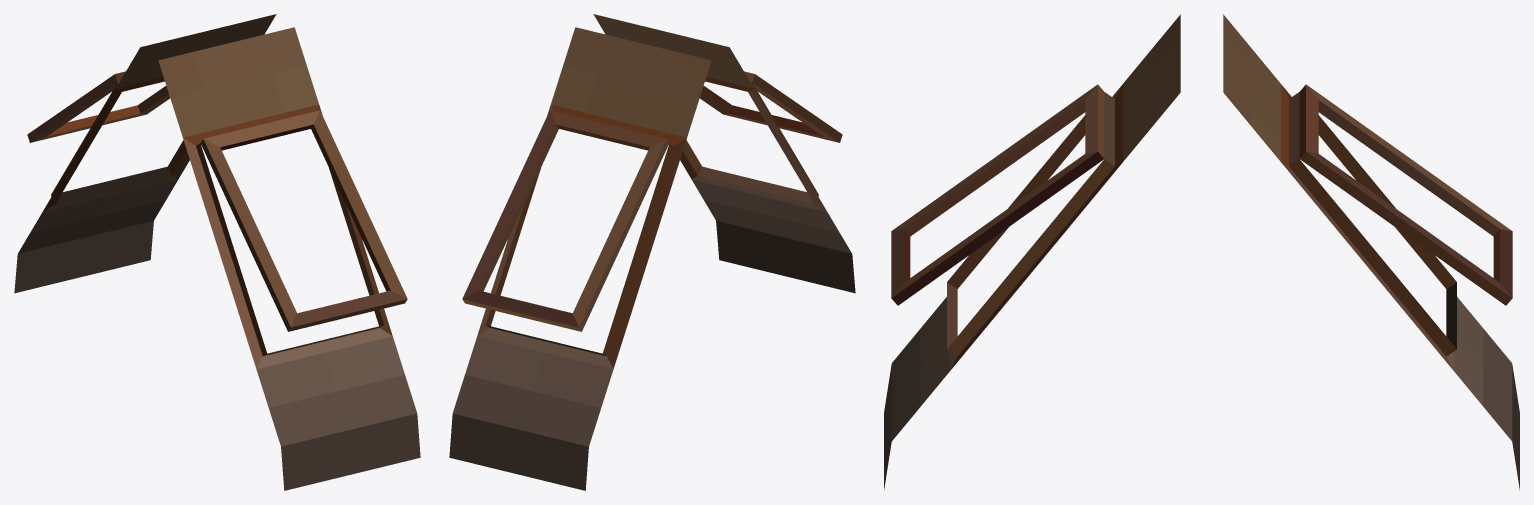
The model's file is Ceiling_HomeA-RoofPanelC-2m.fbx.
The picture shows the model from 3 angles, left to right: view 1: azimuth 30°, elevation 25°; view 2: azimuth 150°, elevation 25°; view 3: azimuth 270°, elevation 25°; orthographic projection. The views are drawn at different scales.
Visible parts, largest first — view 1: Ceiling_HomeA-RoofPanelC-2m; view 2: Ceiling_HomeA-RoofPanelC-2m; view 3: Ceiling_HomeA-RoofPanelC-2m.
Part boxes in pixels (x1,y1,x2,y2): Ceiling_HomeA-RoofPanelC-2m: (14, 14, 420, 490); Ceiling_HomeA-RoofPanelC-2m: (449, 14, 855, 490); Ceiling_HomeA-RoofPanelC-2m: (884, 14, 1519, 489).
Bounding box in the file's own units: 175 × 415 × 600.
